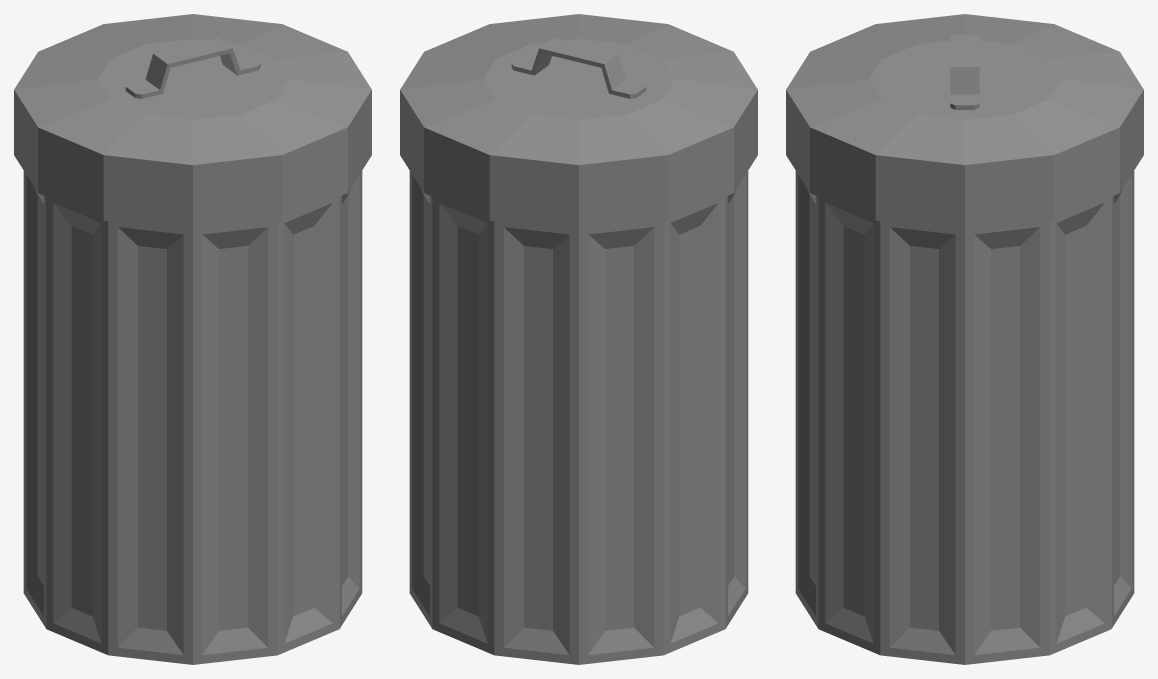
Rendered from TrashCan.fbx.
The picture shows the model from 3 angles, left to right: view 1: azimuth 30°, elevation 25°; view 2: azimuth 150°, elevation 25°; view 3: azimuth 270°, elevation 25°; orthographic projection.
Visible parts, largest first — view 1: Can, Lid; view 2: Can, Lid; view 3: Can, Lid.
Boxes of the visible parts, x1=… form: Can: x1=23, y1=171, x2=362, y2=664; Lid: x1=14, y1=14, x2=371, y2=230; Can: x1=409, y1=171, x2=748, y2=664; Lid: x1=400, y1=14, x2=757, y2=230; Can: x1=795, y1=171, x2=1134, y2=664; Lid: x1=786, y1=14, x2=1143, y2=230.
Bounding box in the file's own units: 0.592 × 0.9906 × 0.592.
